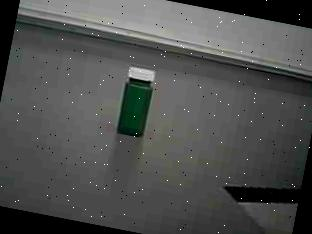Bottle C: (101, 56, 169, 150)
